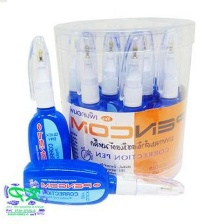correction_fluid: (21, 32, 74, 193), (20, 157, 188, 207), (111, 30, 153, 176), (72, 30, 112, 173), (94, 27, 133, 173), (150, 24, 185, 175)
plastic_box: (50, 15, 201, 189)
